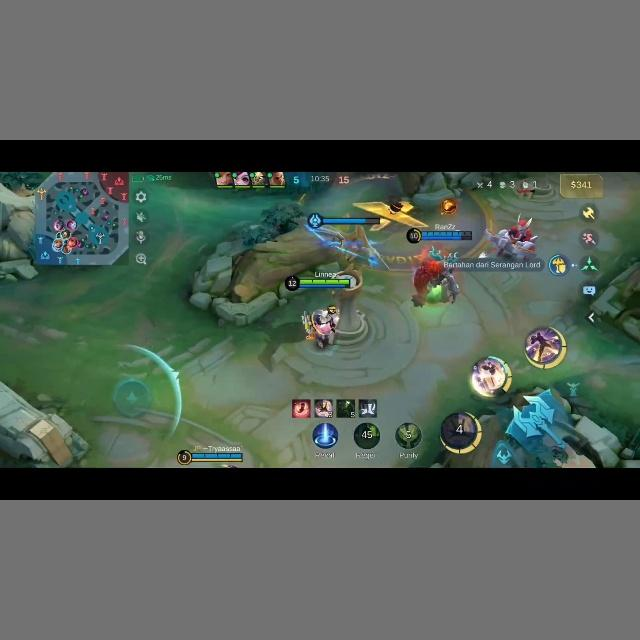hp_self: (404, 228, 474, 244), (176, 449, 242, 461), (298, 276, 352, 289), (317, 217, 379, 226)
minion_enemy: (492, 218, 538, 258)
